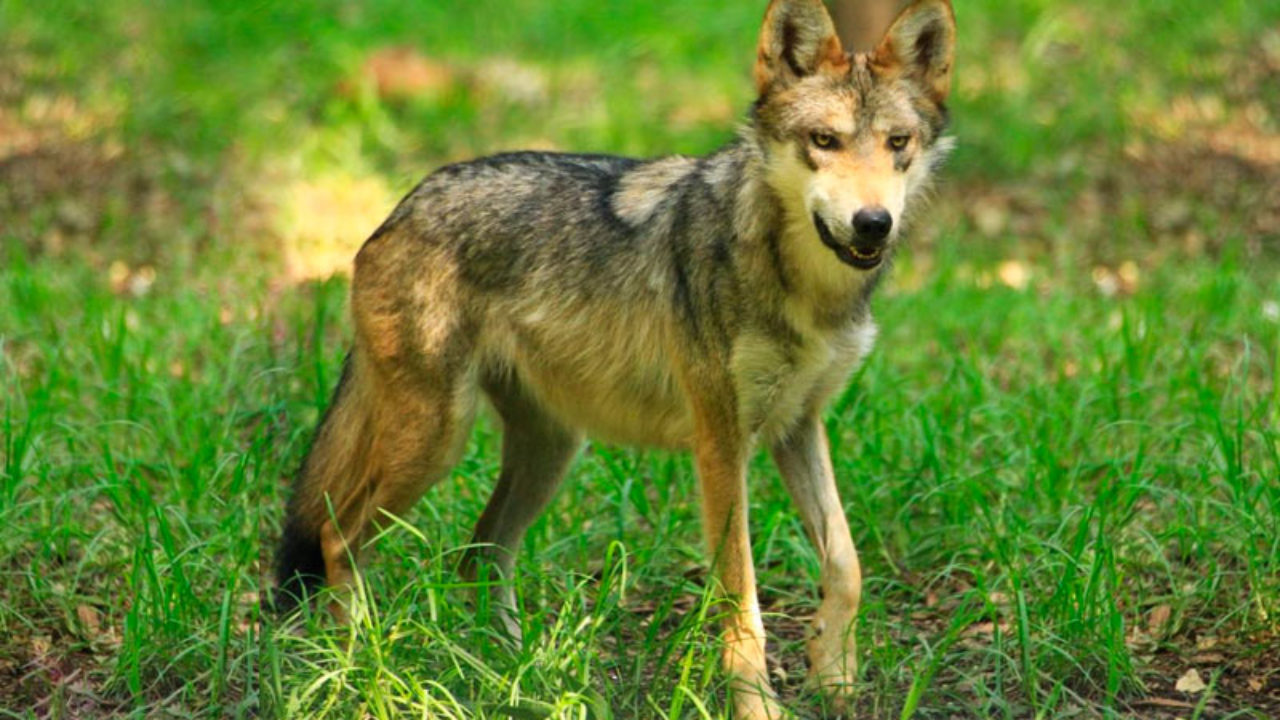Lobo: (315, 17, 986, 688)
